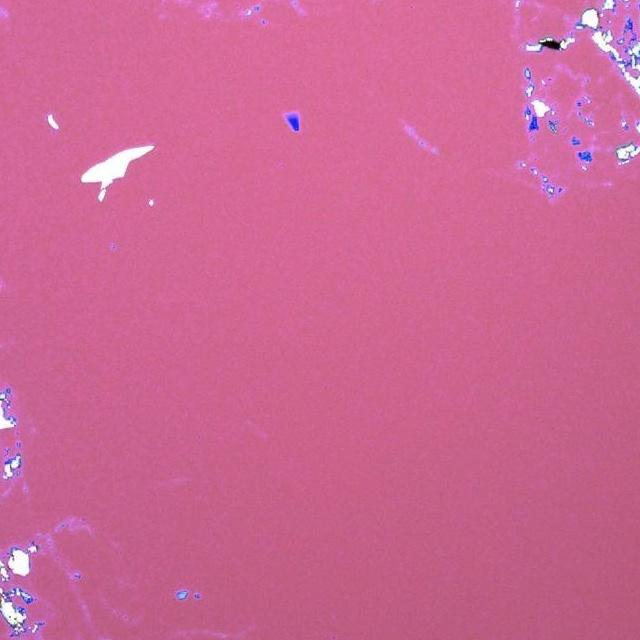monolayer-eWW4: (283, 112, 299, 116)
